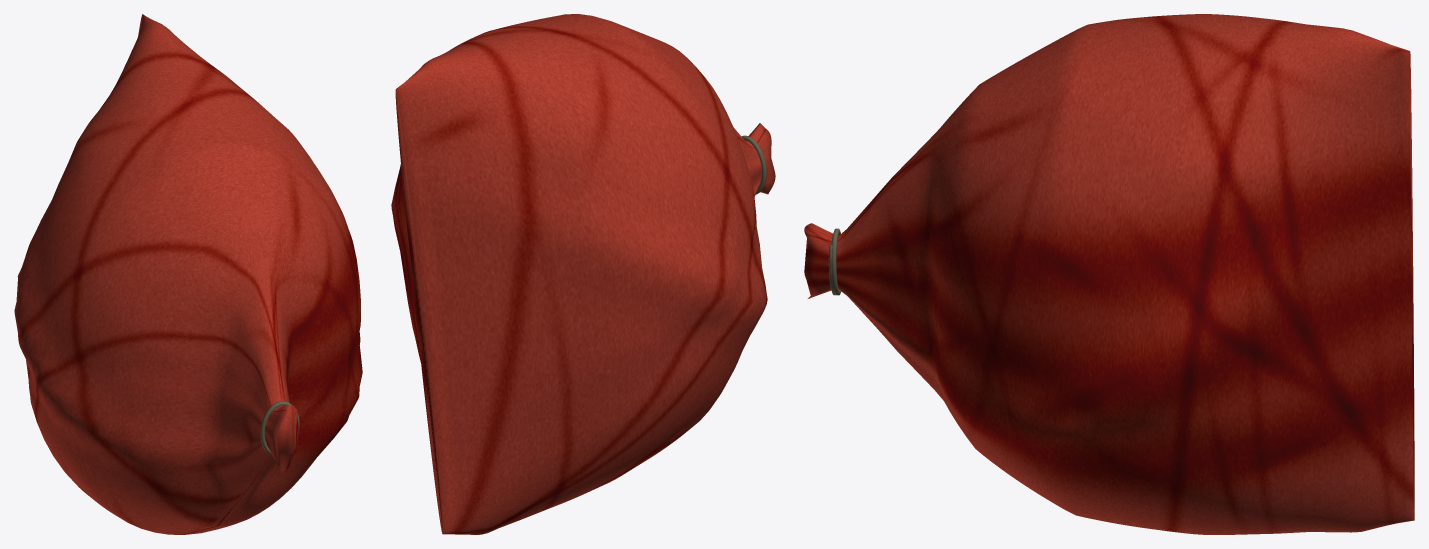
File: peach_01_029.glb
The picture shows the model from 3 angles, left to right: view 1: azimuth 30°, elevation 25°; view 2: azimuth 150°, elevation 25°; view 3: azimuth 270°, elevation 25°; orthographic projection. The views are drawn at different scales.
Parts seen in each view (by area): view 1: export_Tree01/shoot2_8_1/bag; view 2: export_Tree01/shoot2_8_1/bag; view 3: export_Tree01/shoot2_8_1/bag.
Boxes of the visible parts, left/top/right/bottom form: export_Tree01/shoot2_8_1/bag: left=14, top=14, right=362, bottom=534; export_Tree01/shoot2_8_1/bag: left=391, top=14, right=775, bottom=534; export_Tree01/shoot2_8_1/bag: left=804, top=14, right=1414, bottom=534.
Bounding box in the file's own units: 0.0948 × 0.1244 × 0.1305.
Materials: 4 (1 with a texture image).
